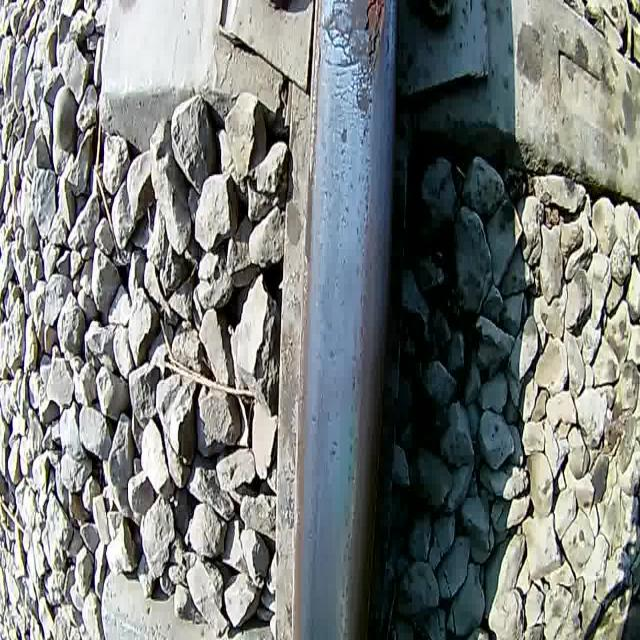Spallings: (362, 0, 388, 73)
Squats: (316, 0, 392, 125)
